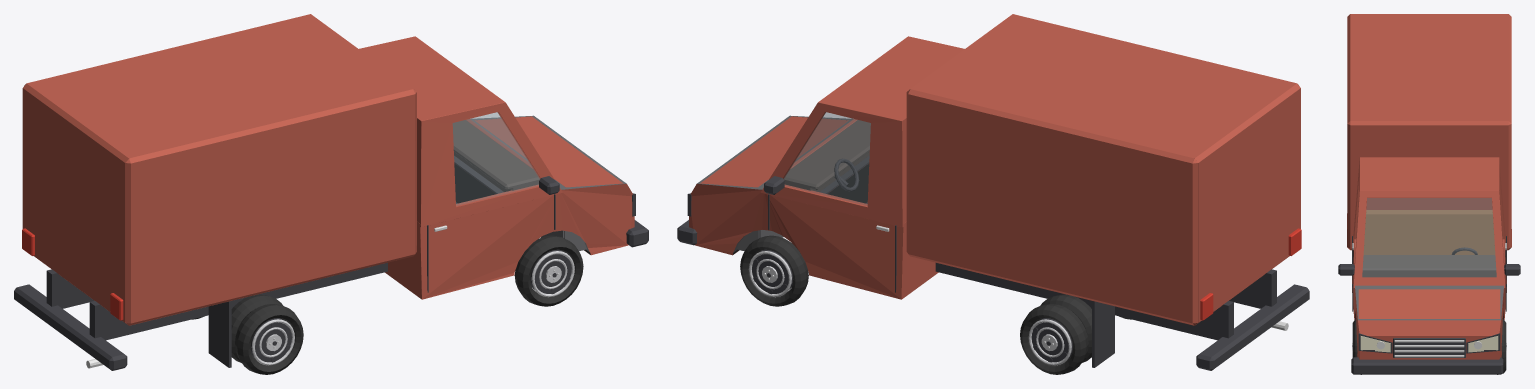
Rendered from vazel.glb.
The picture shows the model from 3 angles, left to right: view 1: azimuth 30°, elevation 25°; view 2: azimuth 150°, elevation 25°; view 3: azimuth 270°, elevation 25°; orthographic projection. The views are drawn at different scales.
Visible parts, largest first — view 1: Body.001, Dark.001, Glass.001, Tire.001, Hood.001, Dash.001, Rim.001, Bay.001, Well.001, Tail.001; view 2: Body.001, Dark.001, Glass.001, Tire.001, Hood.001, Dash.001, Rim.001, Bay.001, Well.001, Tail.001; view 3: Body.001, Glass.001, Seat.001, Dark.001, Hood.001, Dash.001, Bay.001, Chrome.001, Headlight.001, Tire.001.
Boxes of the visible parts, box(x1,y1,x2,y2) form: Body.001: box(22, 14, 634, 325); Dark.001: box(14, 155, 648, 370); Glass.001: box(453, 112, 539, 205); Tire.001: box(192, 235, 583, 374); Hood.001: box(474, 116, 623, 187); Dash.001: box(452, 120, 539, 192); Rim.001: box(251, 251, 574, 365); Bay.001: box(470, 115, 626, 252); Well.001: box(454, 163, 590, 254); Tail.001: box(22, 228, 123, 320); Body.001: box(689, 14, 1300, 325); Dark.001: box(677, 155, 1309, 370); Glass.001: box(783, 112, 870, 205); Tire.001: box(740, 235, 1131, 374); Hood.001: box(700, 116, 848, 187); Dash.001: box(783, 120, 870, 191); Rim.001: box(748, 251, 1071, 365); Bay.001: box(697, 115, 853, 252); Well.001: box(733, 163, 869, 254); Tail.001: box(1200, 228, 1301, 320); Body.001: box(1347, 14, 1511, 359); Glass.001: box(1362, 198, 1496, 276); Seat.001: box(1363, 210, 1495, 254); Dark.001: box(1338, 236, 1520, 374); Hood.001: box(1358, 289, 1500, 318); Dash.001: box(1362, 255, 1496, 277); Bay.001: box(1355, 285, 1503, 320); Chrome.001: box(1352, 243, 1506, 357); Headlight.001: box(1360, 336, 1498, 352); Tire.001: box(1352, 250, 1506, 374).
Size of the model in its own units: 6.06 by 2.75 by 2.3.
